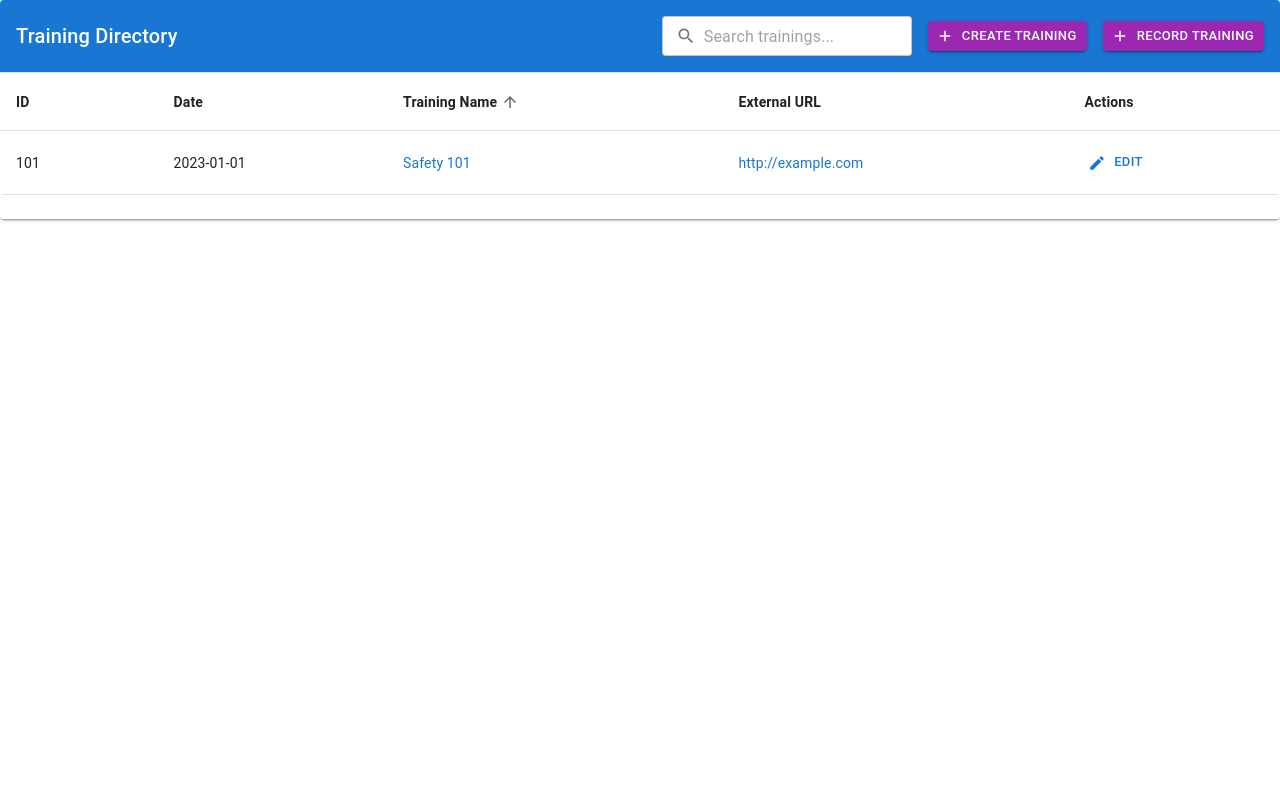
Test: TrainingsView › should open the detail modal when view icon is clicked
Click the link "Safety 101". click: (437, 163)
box: [403,155,471,171]
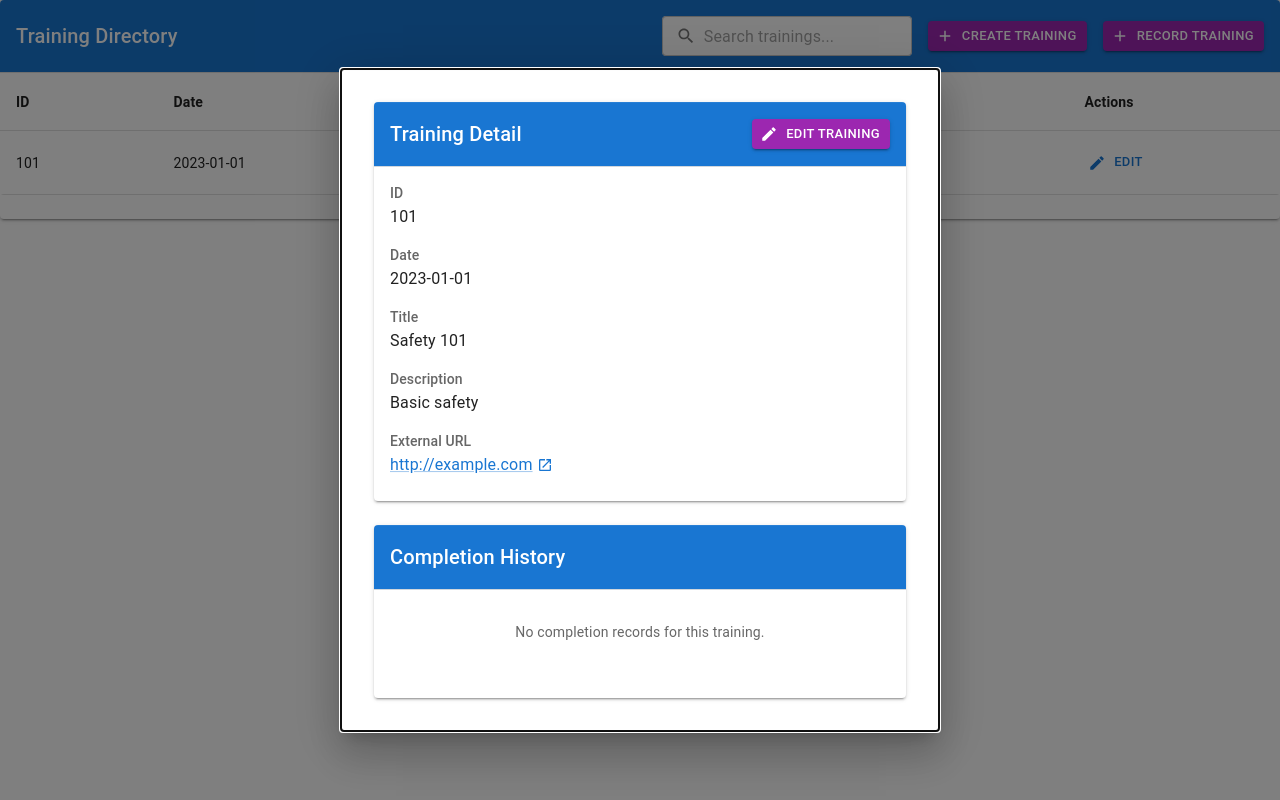
Check: the heading "Training Detail" is shown, box [390,118,522,150]
Check: the text "Basic safety" is shown, box [390,393,479,412]
